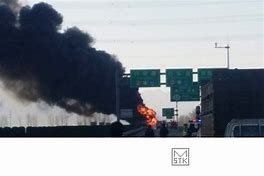smoke: (1, 1, 148, 116)
